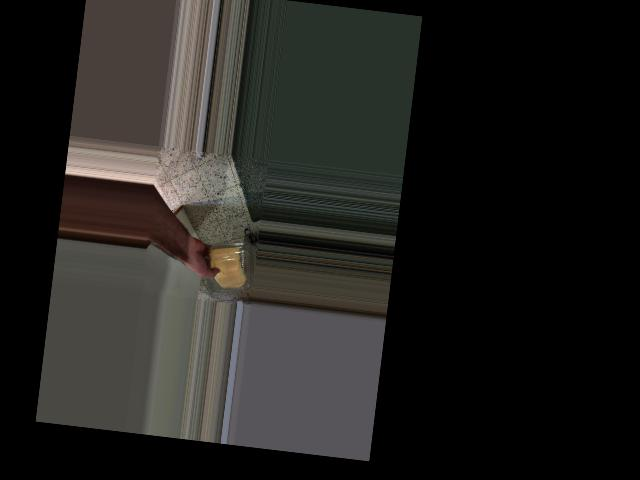cheese: (203, 239, 253, 292)
